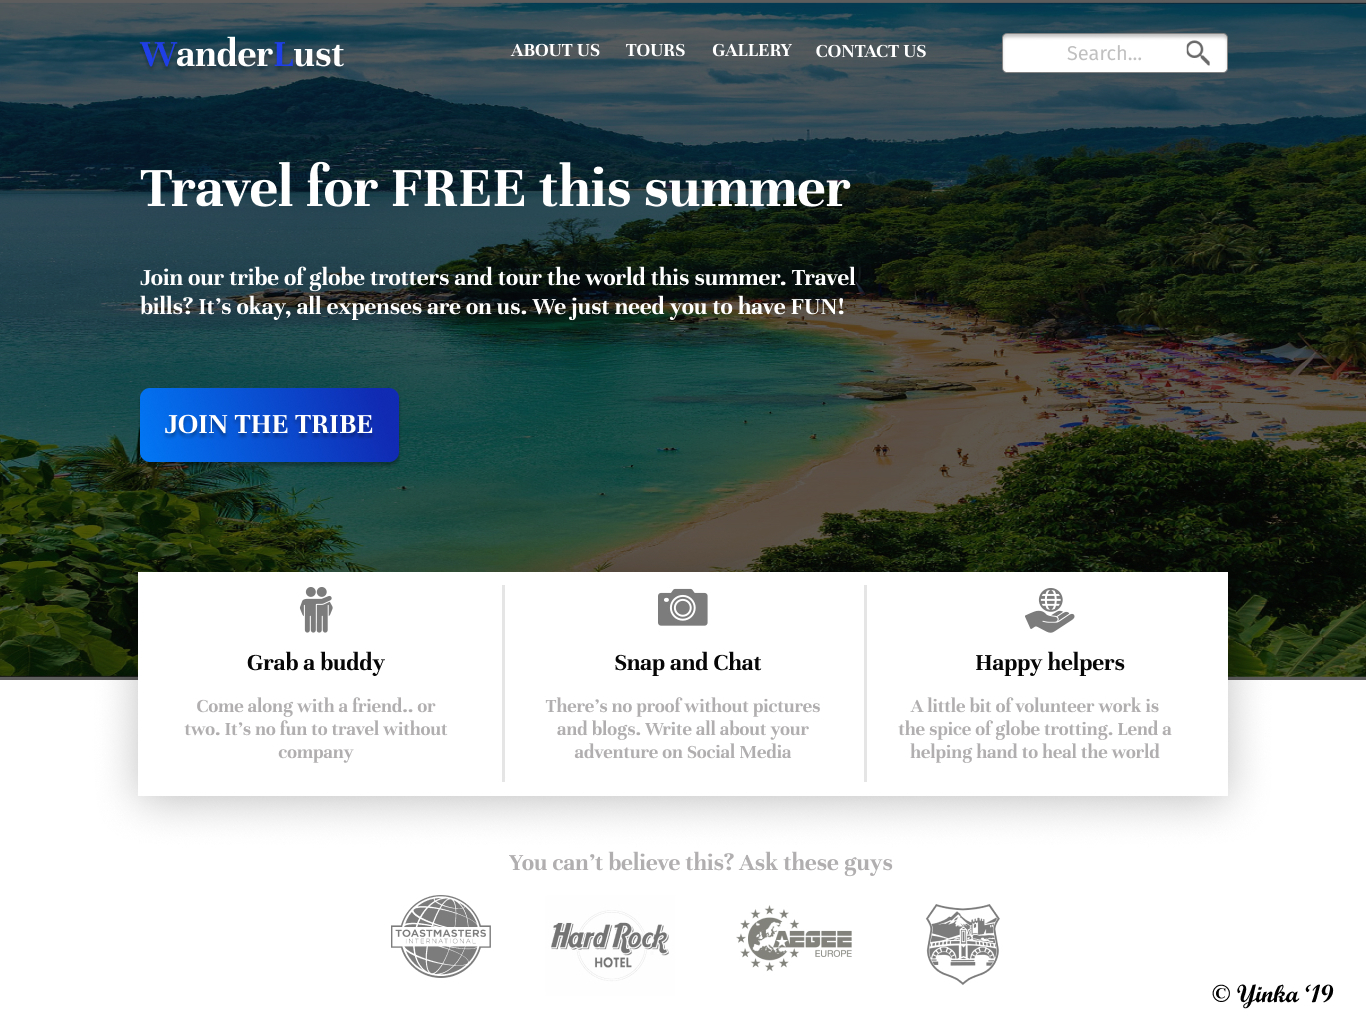menu: (40, 10, 1335, 152)
